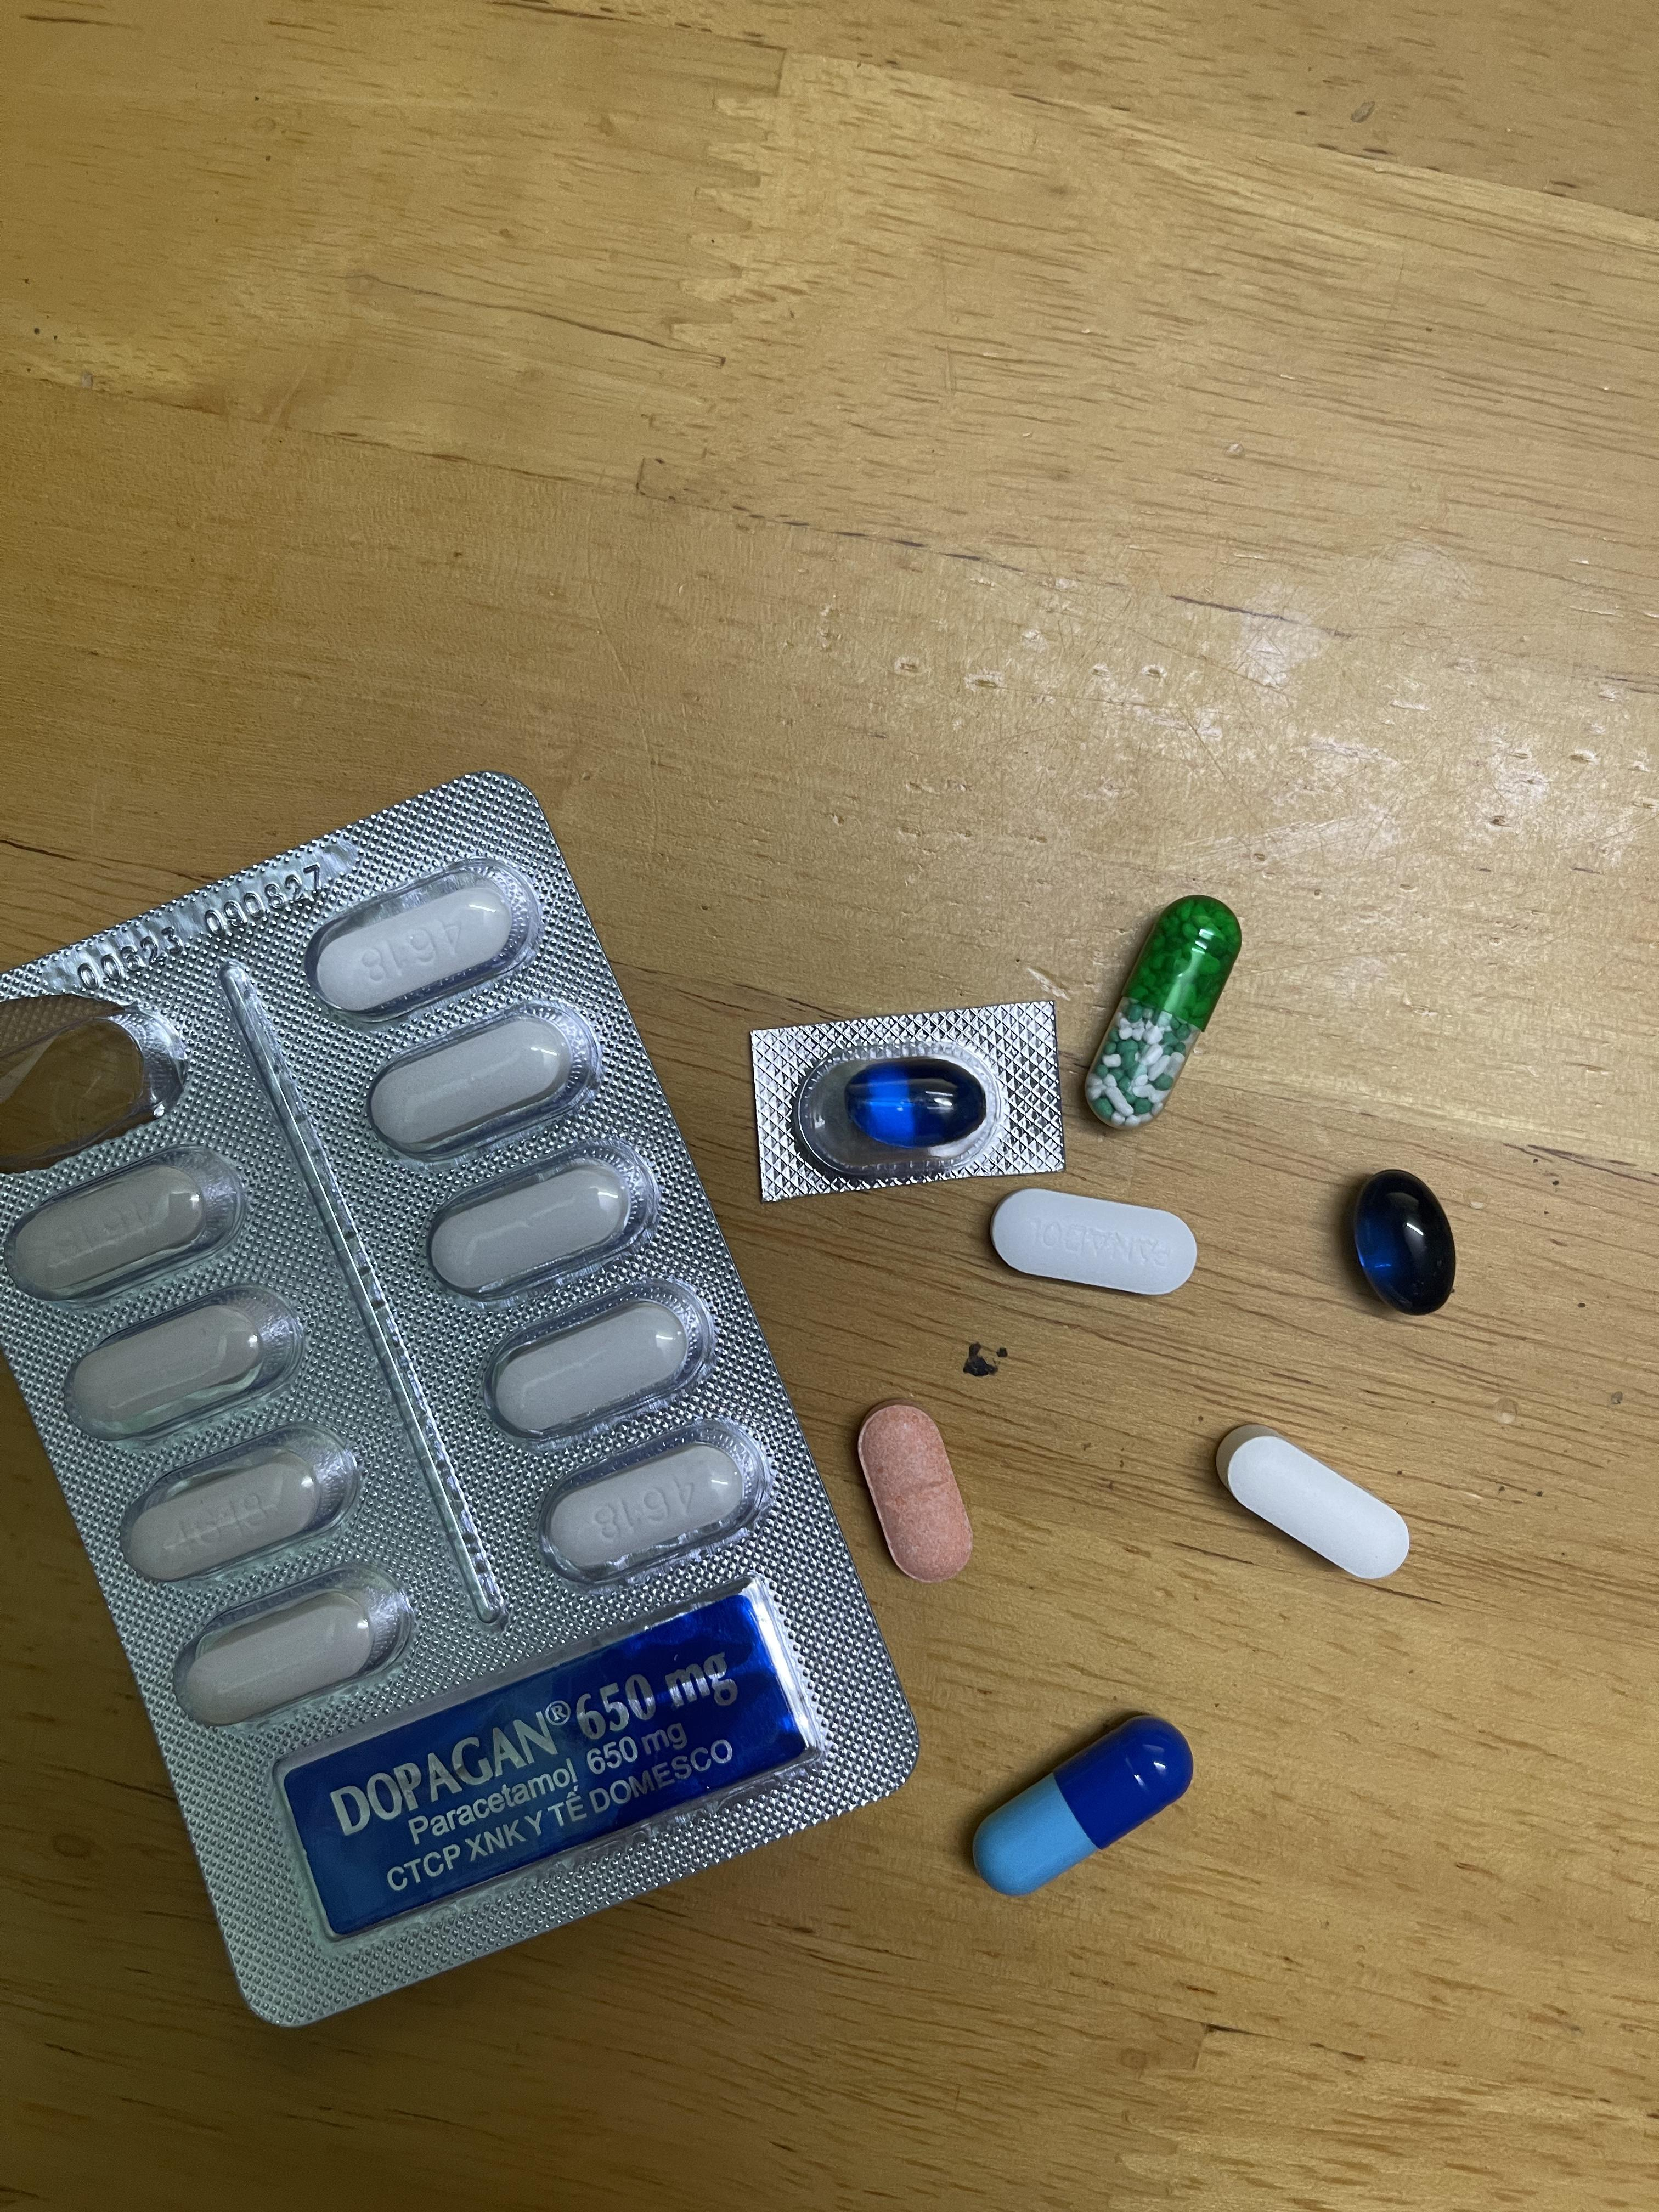Lincomyxin_500mg: (1352, 1170, 1457, 1312), (847, 1061, 990, 1148)
Loratadine_10mg: (854, 1404, 976, 1580)
Paracetamol_350mg: (992, 1188, 1199, 1299)
Paracetamol_500mg: (173, 1568, 410, 1726), (122, 1428, 356, 1583), (368, 1012, 573, 1153), (544, 1439, 749, 1578), (429, 1160, 631, 1298), (73, 1296, 279, 1430), (315, 876, 514, 1012), (1225, 1435, 1408, 1580), (493, 1303, 688, 1435), (16, 1162, 213, 1292)
Paracetamol_650mg: (1091, 902, 1239, 1125)
pill: (976, 1716, 1188, 1893)
